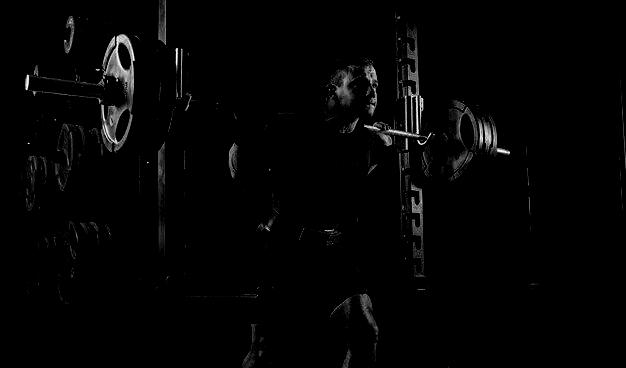Barbell: (20, 71, 36, 97)
